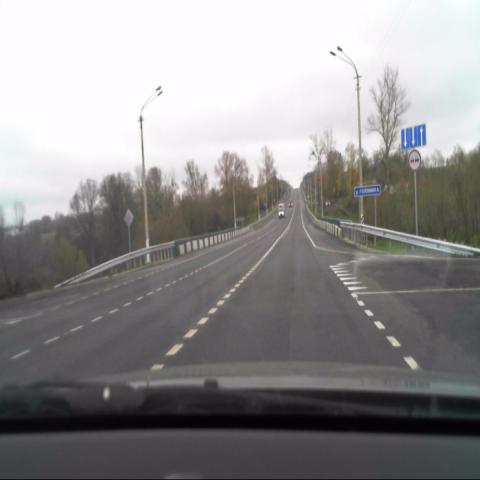3_20: (408, 150, 422, 171)
5_15_7: (400, 125, 425, 150)
